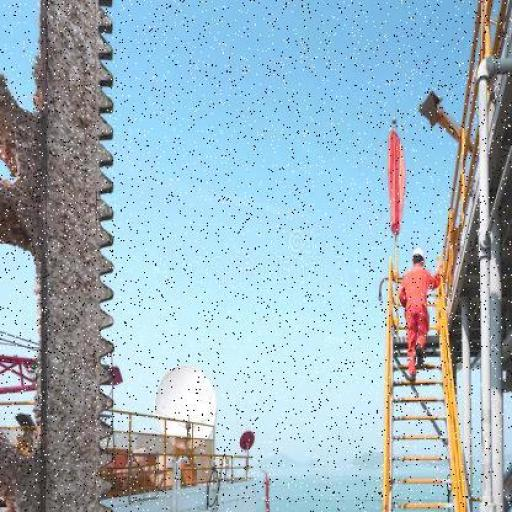person: (389, 247, 445, 383)
safety_shoe: (416, 344, 426, 370), (409, 375, 416, 383)
